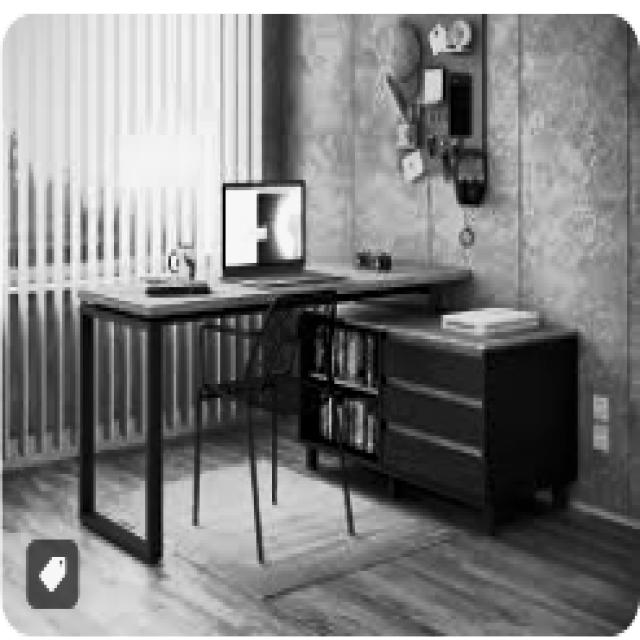book: (192, 287, 352, 561)
table: (75, 259, 472, 564)
